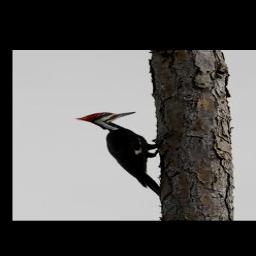Woodpecker: (73, 111, 160, 198)
